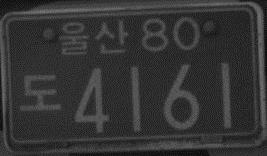0: (172, 15, 201, 50)
1: (127, 65, 145, 134), (219, 60, 232, 130)
4: (72, 65, 109, 137)
6: (161, 61, 201, 132)
8: (140, 15, 168, 54)
도: (17, 72, 62, 115)
무: (58, 17, 128, 60)
